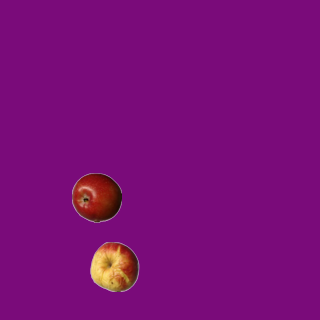Apple Braeburn: (71, 172, 121, 222)
Apple Red Yellow 1: (89, 241, 139, 291)
